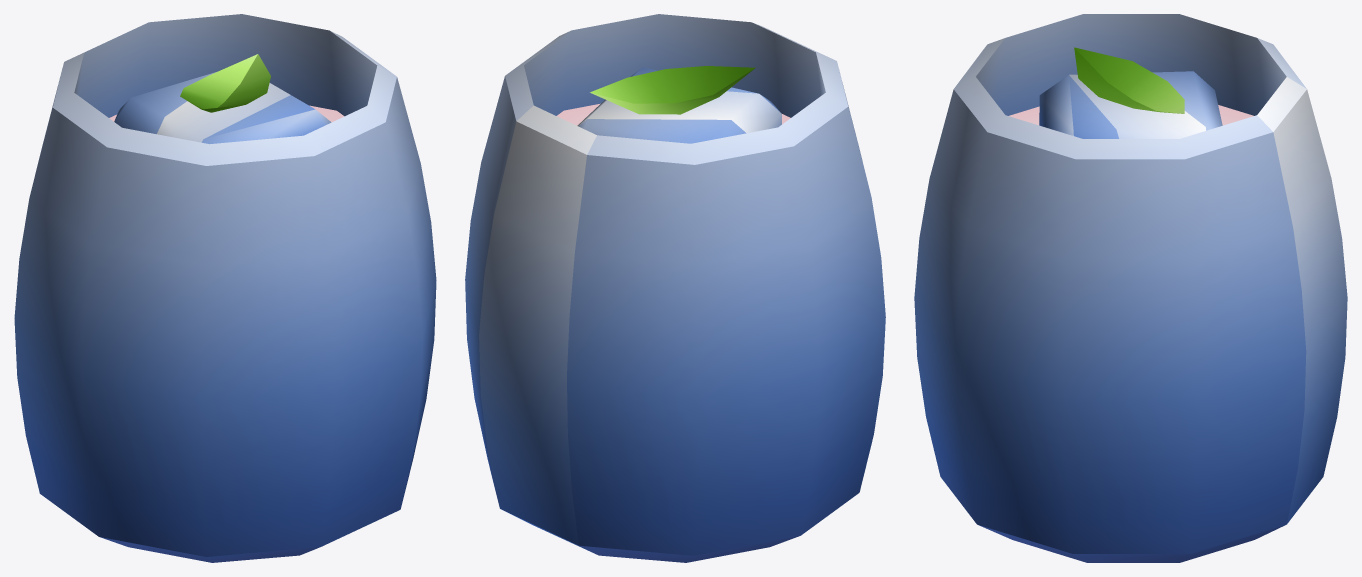
File: m_Cocktail27.fbx
The picture shows the model from 3 angles, left to right: view 1: azimuth 30°, elevation 25°; view 2: azimuth 150°, elevation 25°; view 3: azimuth 270°, elevation 25°; orthographic projection.
Visible parts, largest first — view 1: m_Cocktail27; view 2: m_Cocktail27; view 3: m_Cocktail27.
Boxes of the visible parts, x1,y1,x2,y2 form: m_Cocktail27: (14,14,436,562); m_Cocktail27: (465,14,885,562); m_Cocktail27: (914,14,1347,562).
Bounding box in the file's own units: 15.13 × 17.34 × 15.91.
